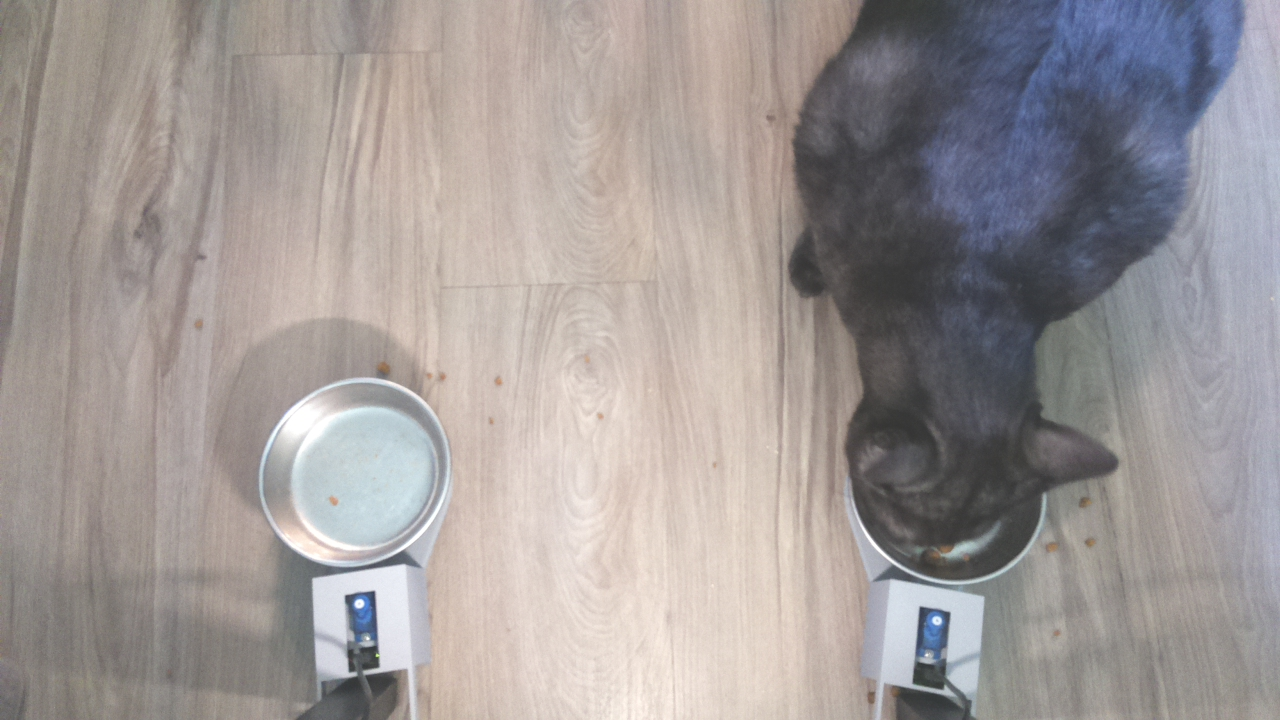open_bowl: (252, 370, 450, 562)
saki_eating: (839, 348, 1141, 589)
